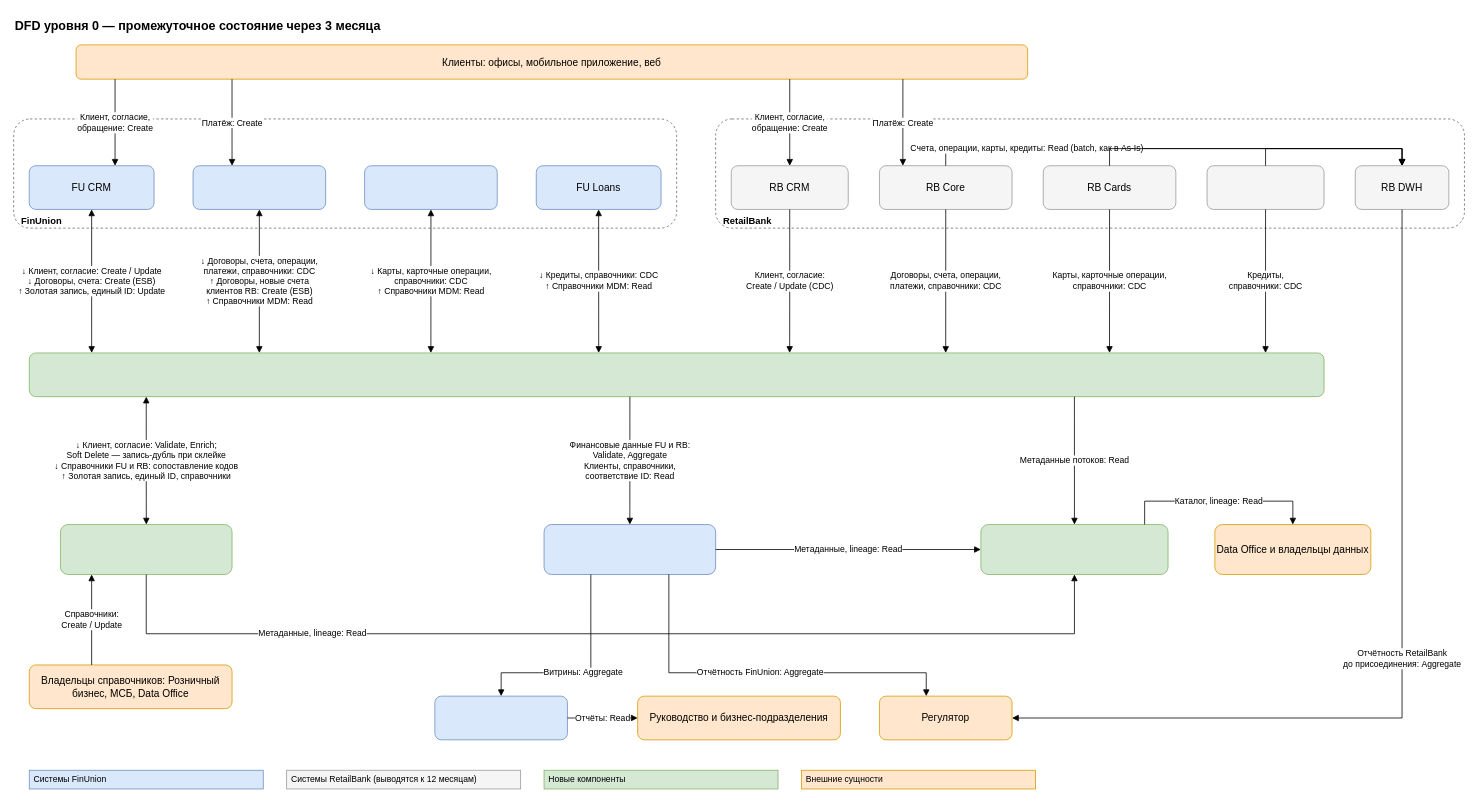
Some shapes in this 1478 by 803 pixel diagram are drawn without their labels. The centre of each missing label's shape, as x and y in pixels:
"BI FinUnion" belongs at pixel 500 717.
"DataHub (каталог, lineage)" belongs at pixel 1074 549.
"DWH FinUnion" belongs at pixel 629 549.
"FU Cards" belongs at pixel 430 187.
"FU Core" belongs at pixel 259 187.
"Integration Layer: ESB FinUnion + Kafka + Schema Registry + CDC" belongs at pixel 676 374.
"MDM Customer Hub" belongs at pixel 146 549.
"RB Loans" belongs at pixel 1265 187.
